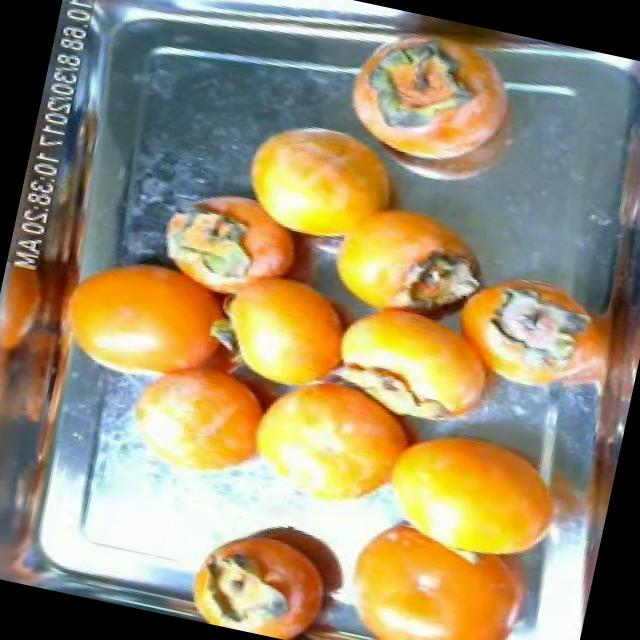Fruit: (51, 230, 219, 397), (104, 351, 291, 501), (175, 495, 368, 640), (226, 104, 398, 255)
